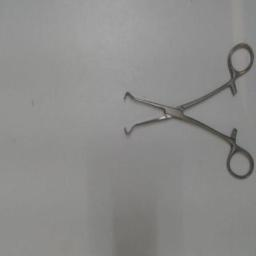Babcock Tissue Forceps: (118, 38, 254, 184)
